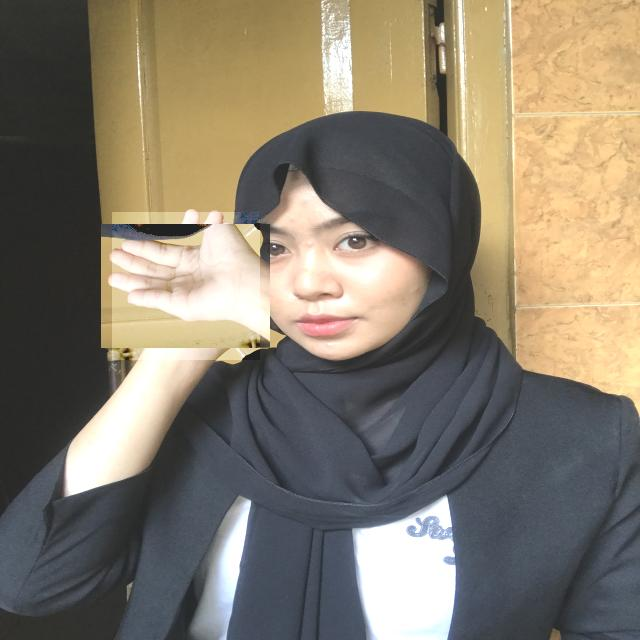mendengar: (112, 212, 260, 360)
